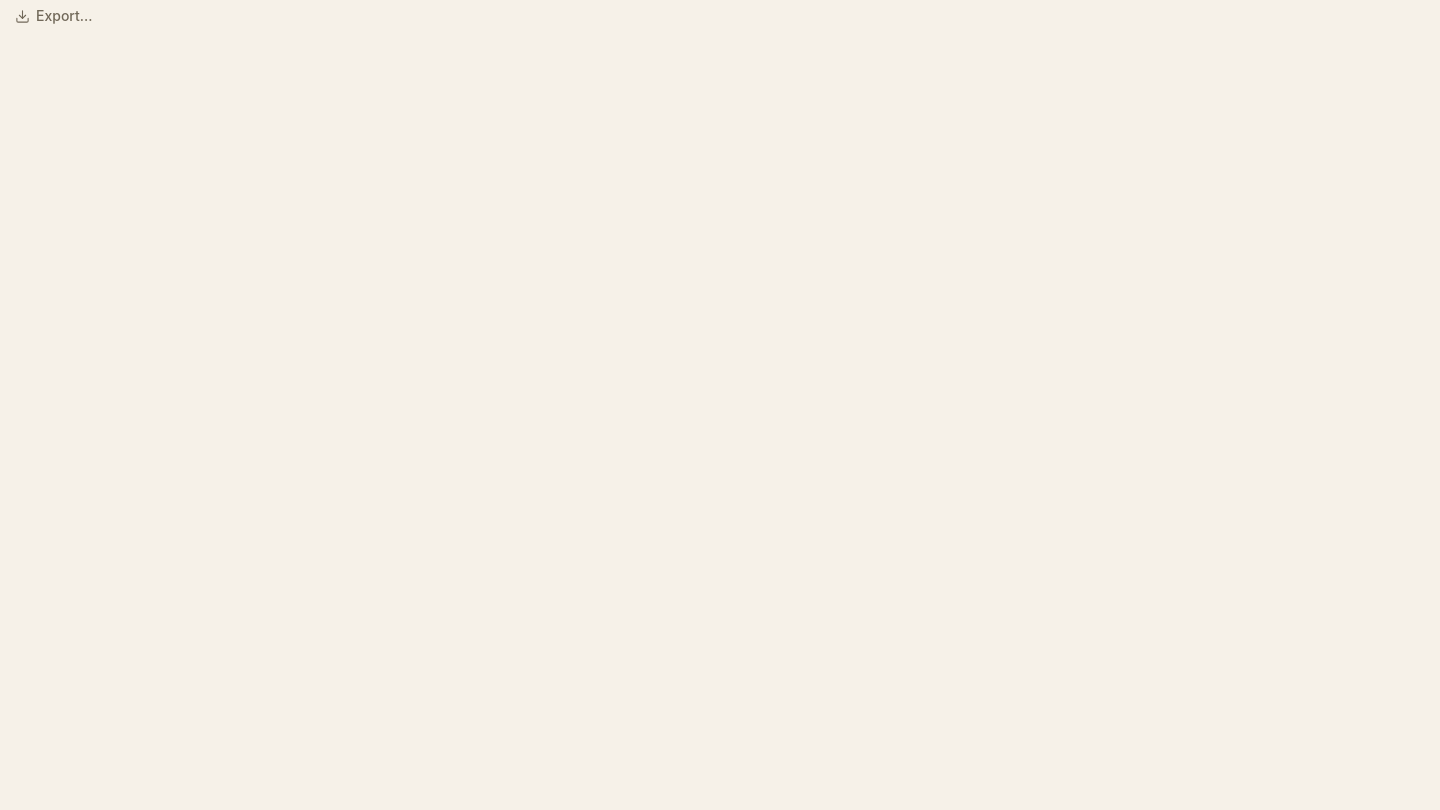
it: ExportProjectsButton › names a single-project file after the project
The image size is (1440, 810).
Later steps or results of the test are not shown.
Click the button "Export…": (54, 16) [0,0,108,33]
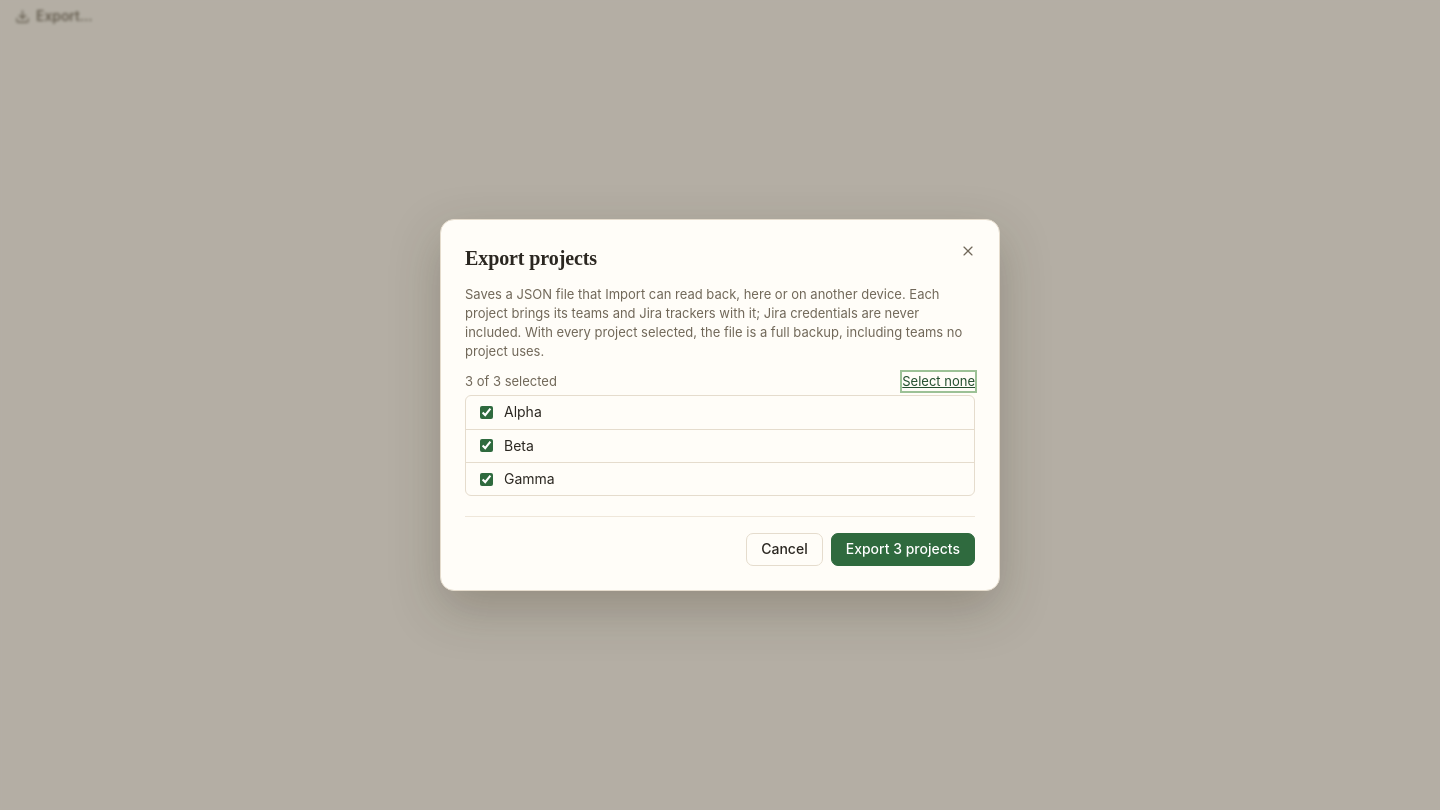
Click the button "Select none": (939, 382) [902,372,975,391]
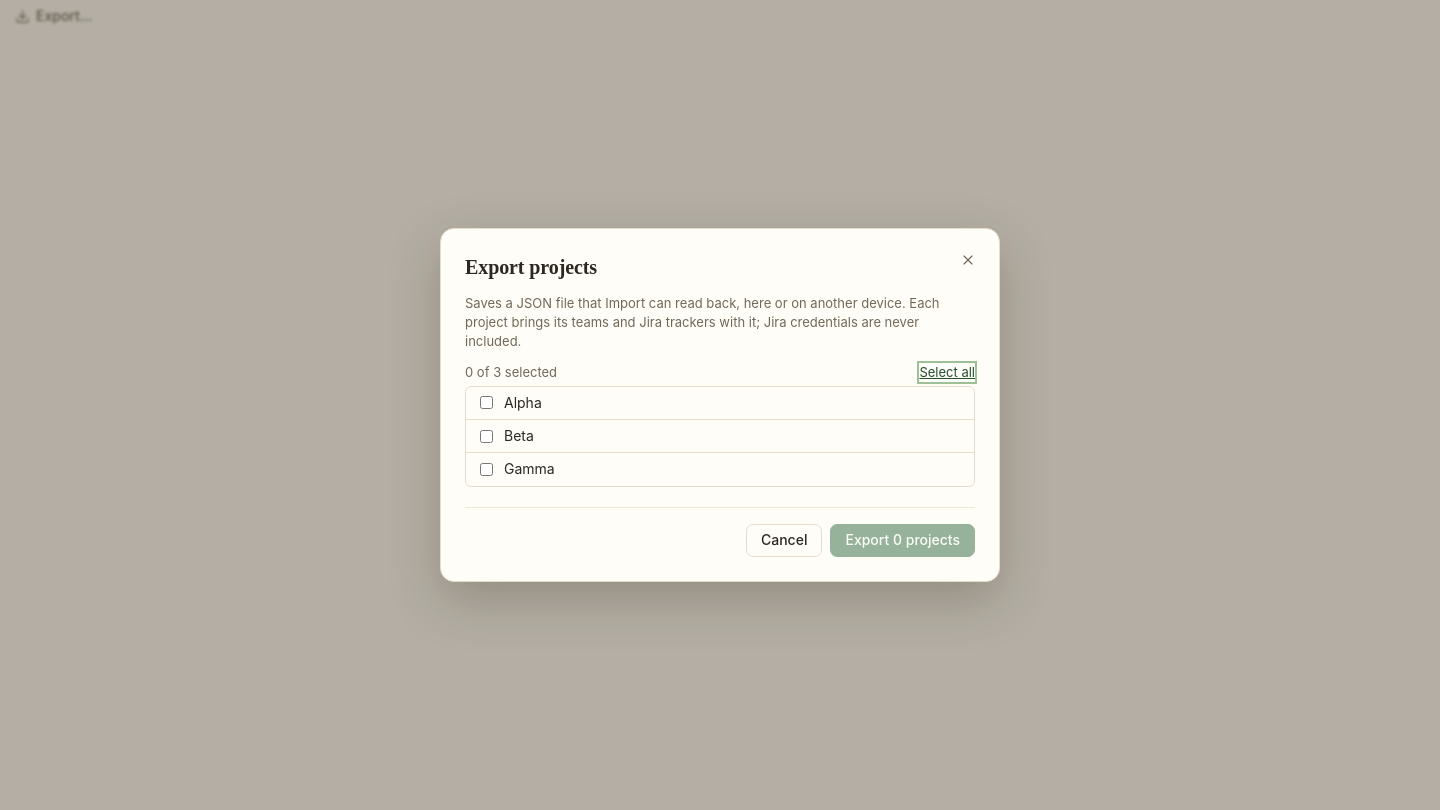
Expected: the button "Export 0 projects" is disabled, [830,524,975,556]
